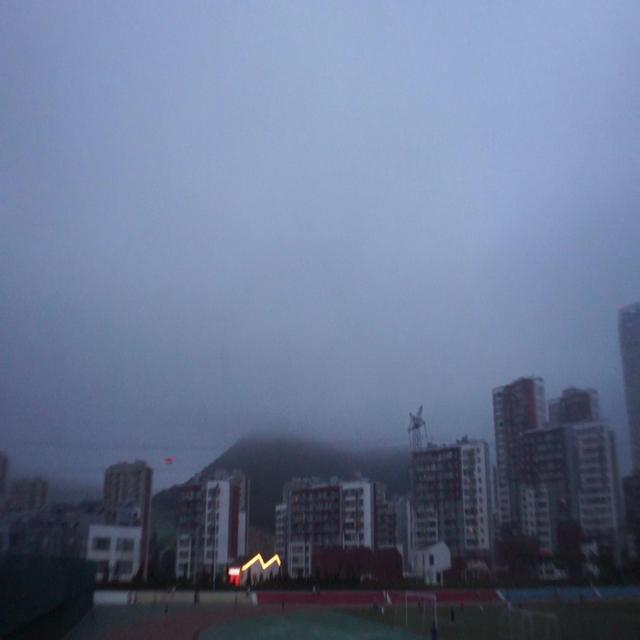drone: (162, 449, 180, 472)
